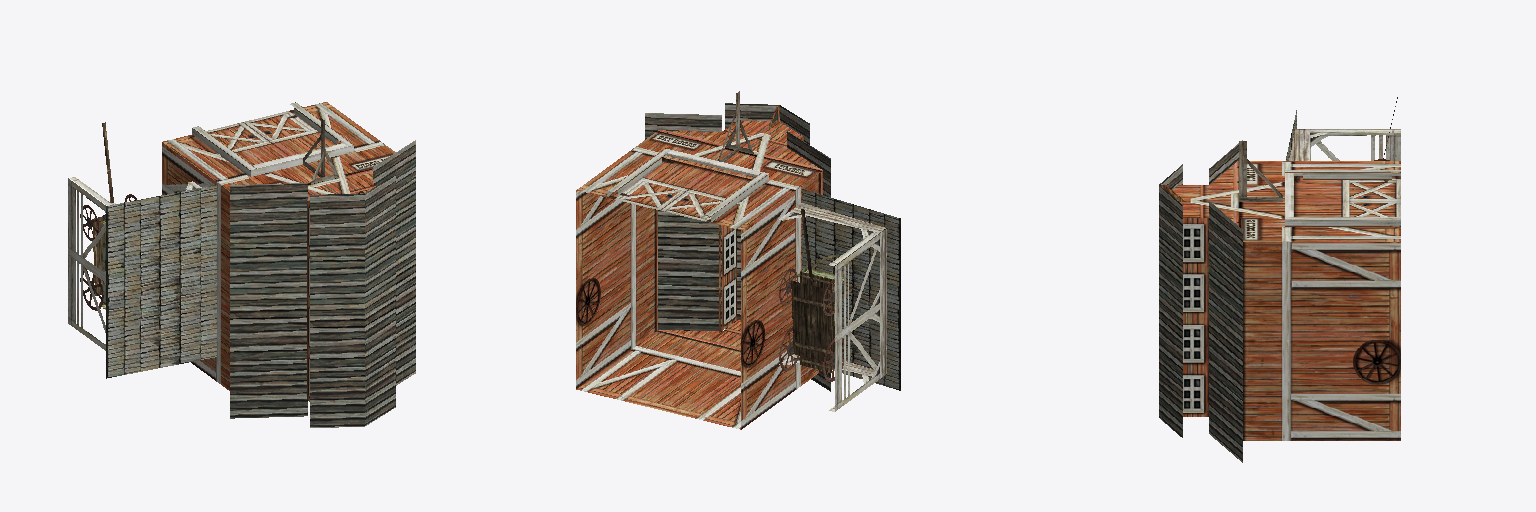
3 views of the same model, side by side, from view 1: azimuth 30°, elevation 25°; view 2: azimuth 150°, elevation 25°; view 3: azimuth 270°, elevation 25° (orthographic).
Size of the model in its own units: 175 by 163 by 129.
1 materials, 1 textured.